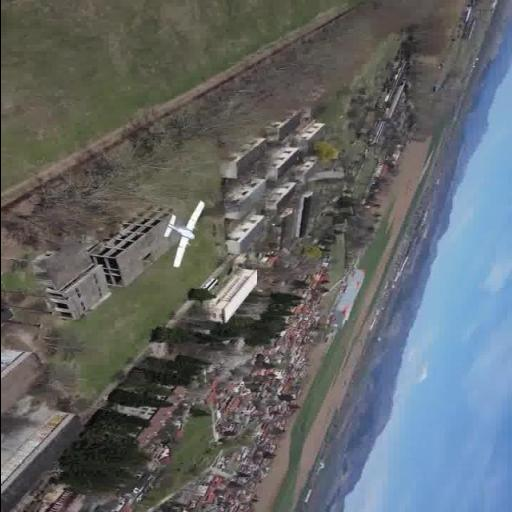uav: (156, 196, 206, 270)
